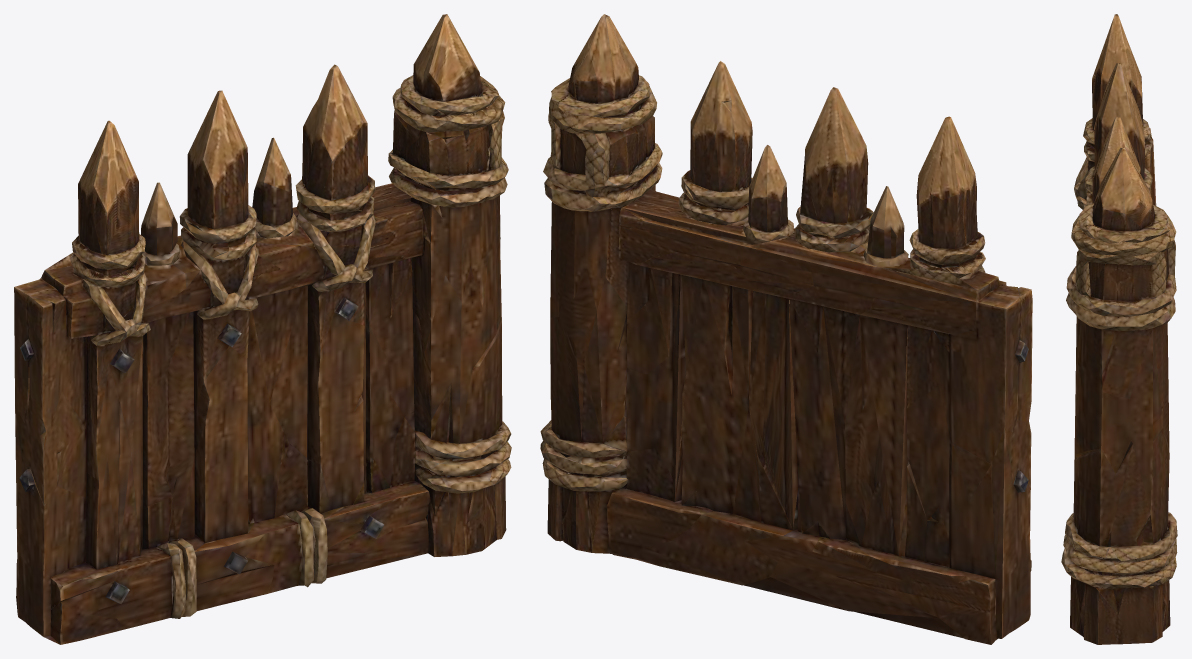
Rendered from barricade-endcap.glb.
3 views of the same model, side by side, from view 1: azimuth 30°, elevation 25°; view 2: azimuth 150°, elevation 25°; view 3: azimuth 270°, elevation 25° (orthographic). The views are drawn at different scales.
Parts seen in each view (by area): view 1: output_unwrapped; view 2: output_unwrapped; view 3: output_unwrapped.
Boxes of the visible parts, <box> form: output_unwrapped: <box>14,14,511,644</box>; output_unwrapped: <box>540,14,1032,644</box>; output_unwrapped: <box>1061,14,1177,644</box>.
Bounding box in the file's own units: 1.83 × 1.9 × 0.4201.
1 material, 1 textured.
